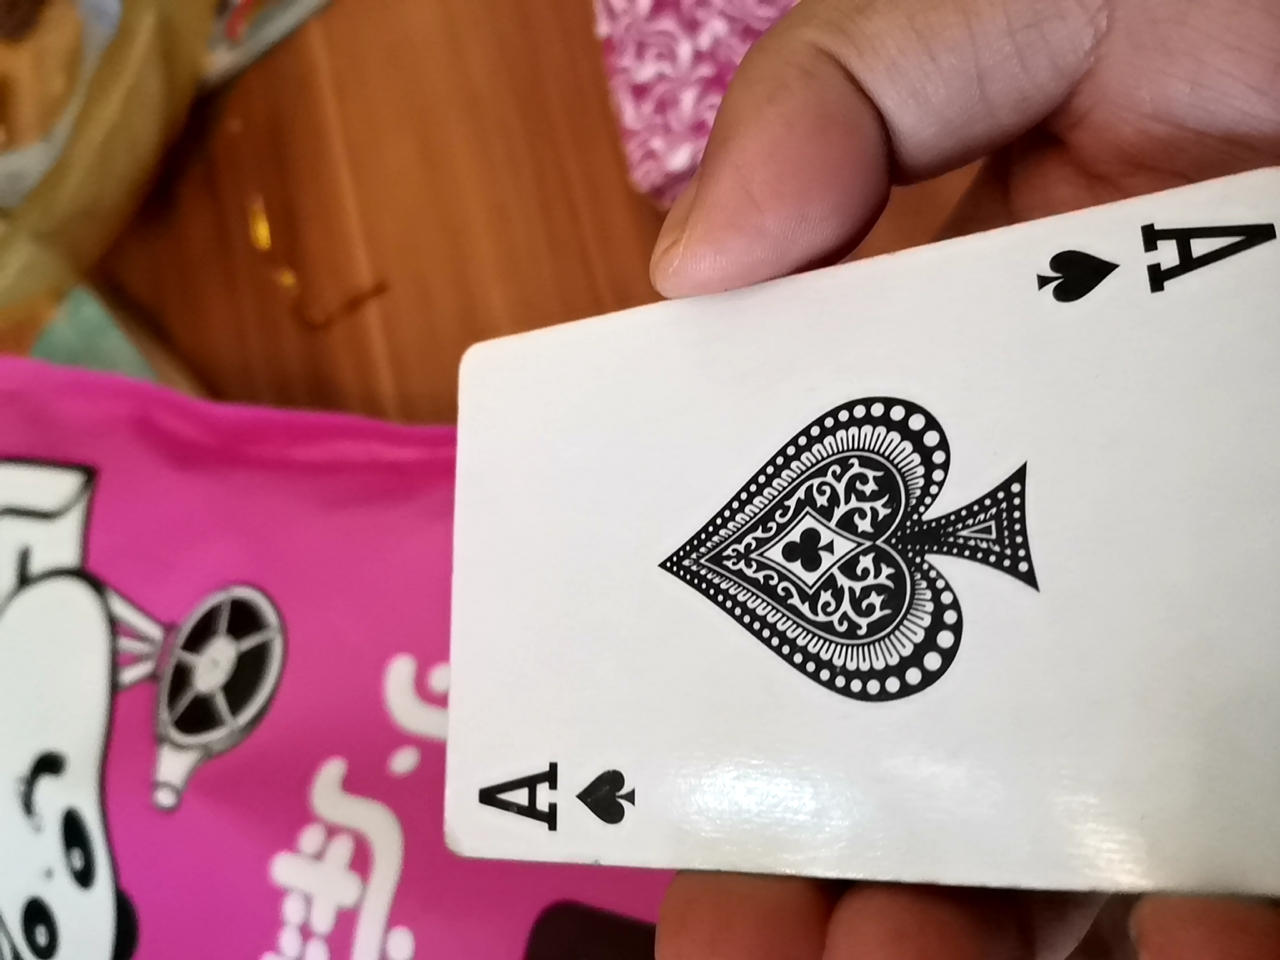ht a: (404, 142, 1271, 899)
